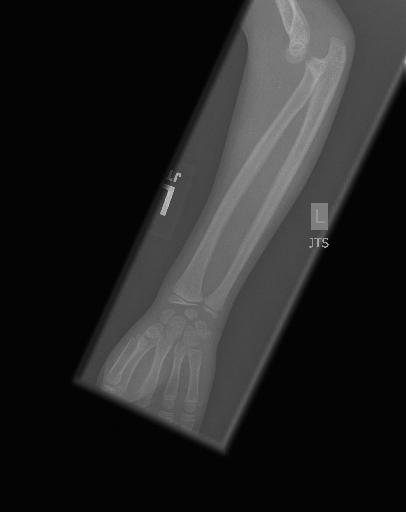forearm fracture: (291, 29, 351, 88)
